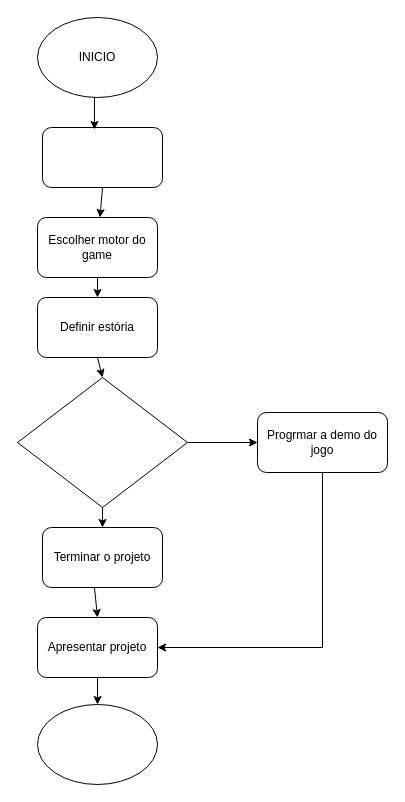
Image size: 405x802. Some labels were removed from this diagram. The shapes that lost their labels are listed below. From the top down, each one's centre as x and y in pixels, then its label:
At pixel 102 157: "Selecionar Livro".
At pixel 102 442: "Tem tempo para apresentação ou recursos?".
At pixel 97 744: "Fim".
